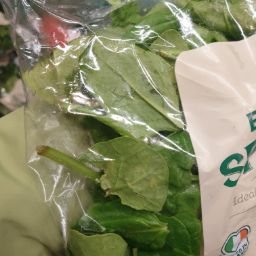Spinach: (57, 25, 188, 251), (24, 126, 174, 245), (55, 36, 181, 148)
